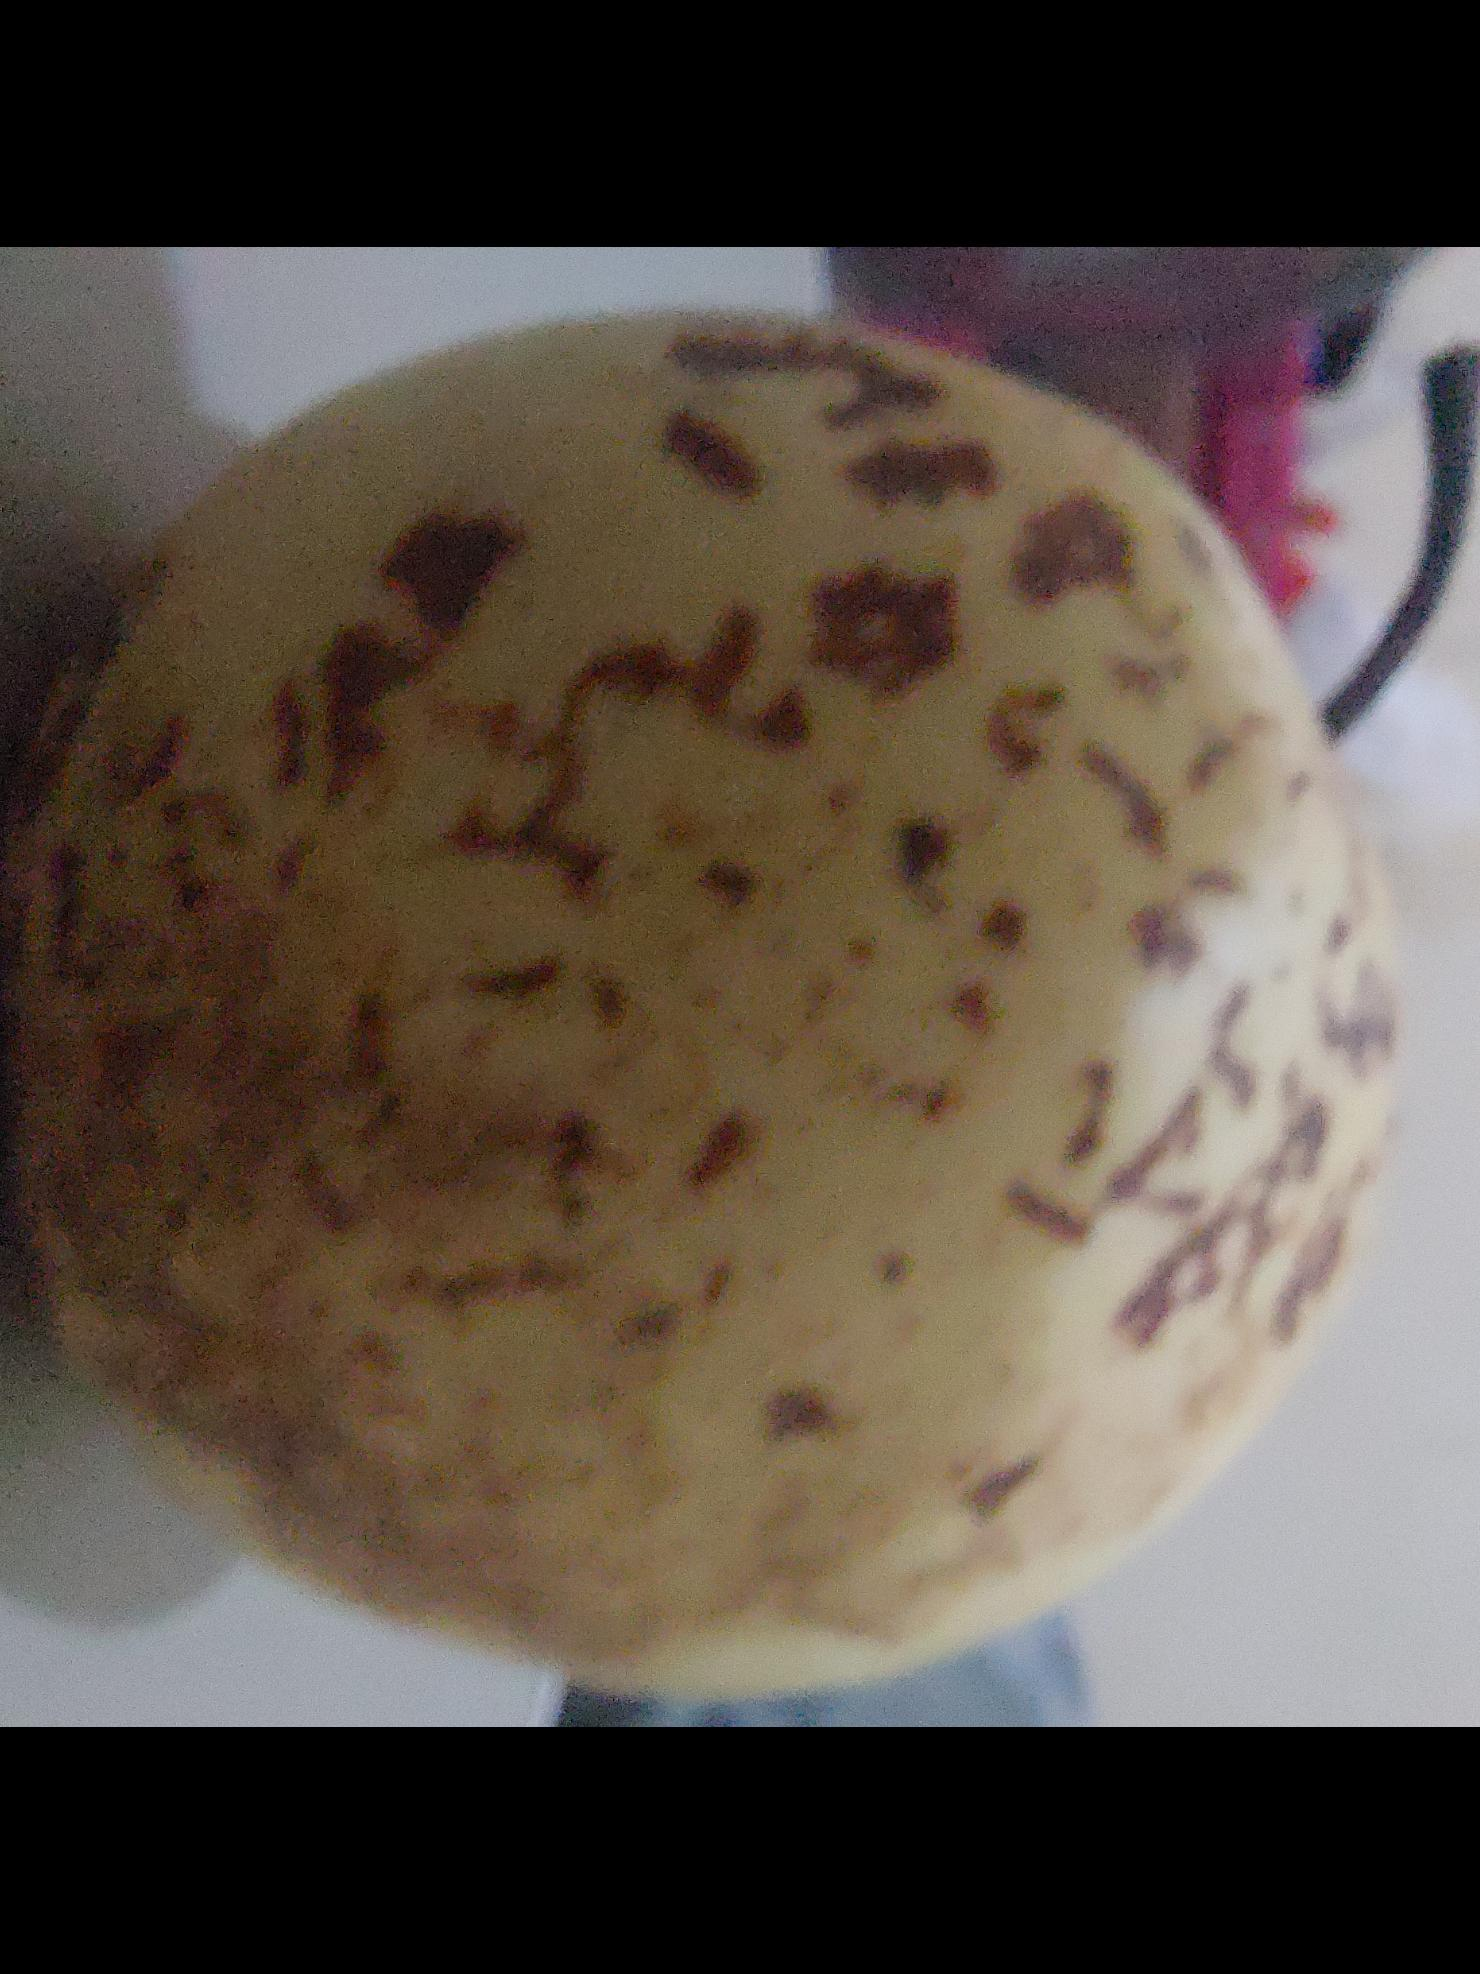Bad Pear: (0, 247, 1480, 1711)
